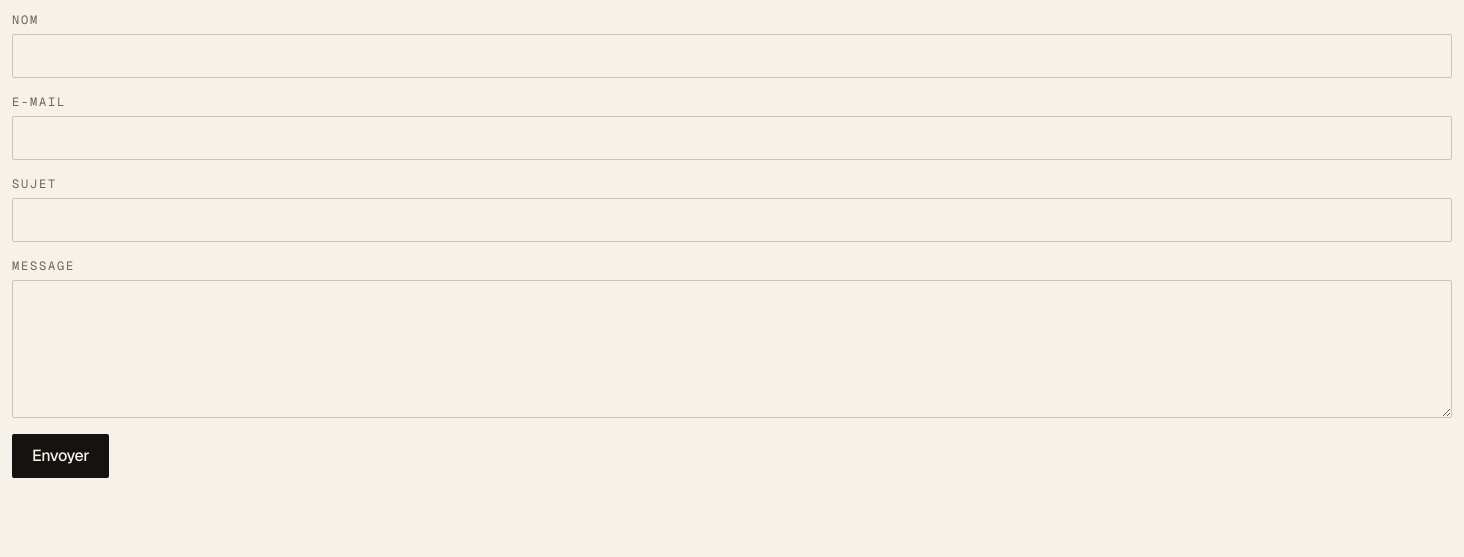
Test: ContactForm › affiche un message d'information sur soumission valide
In the field labelled "Nom": (732, 56) [12,34,1452,78], type "Alice"
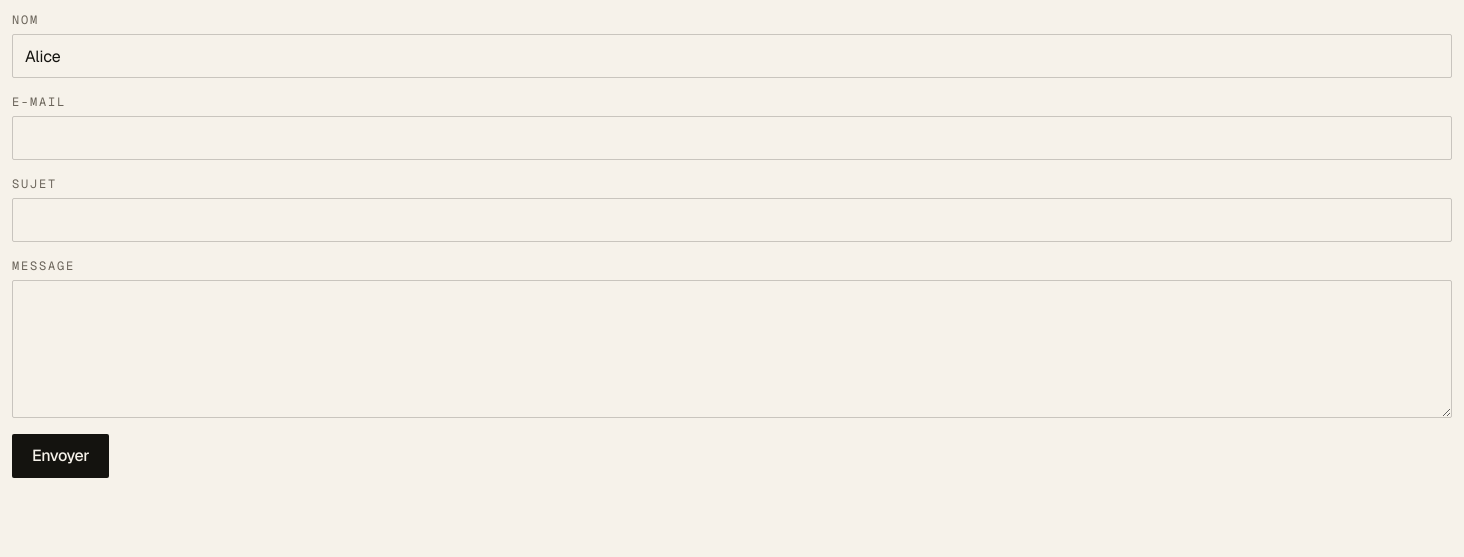
In the field labelled "E-mail": (732, 138) [12,116,1452,160], type "alice@bamfa.org"
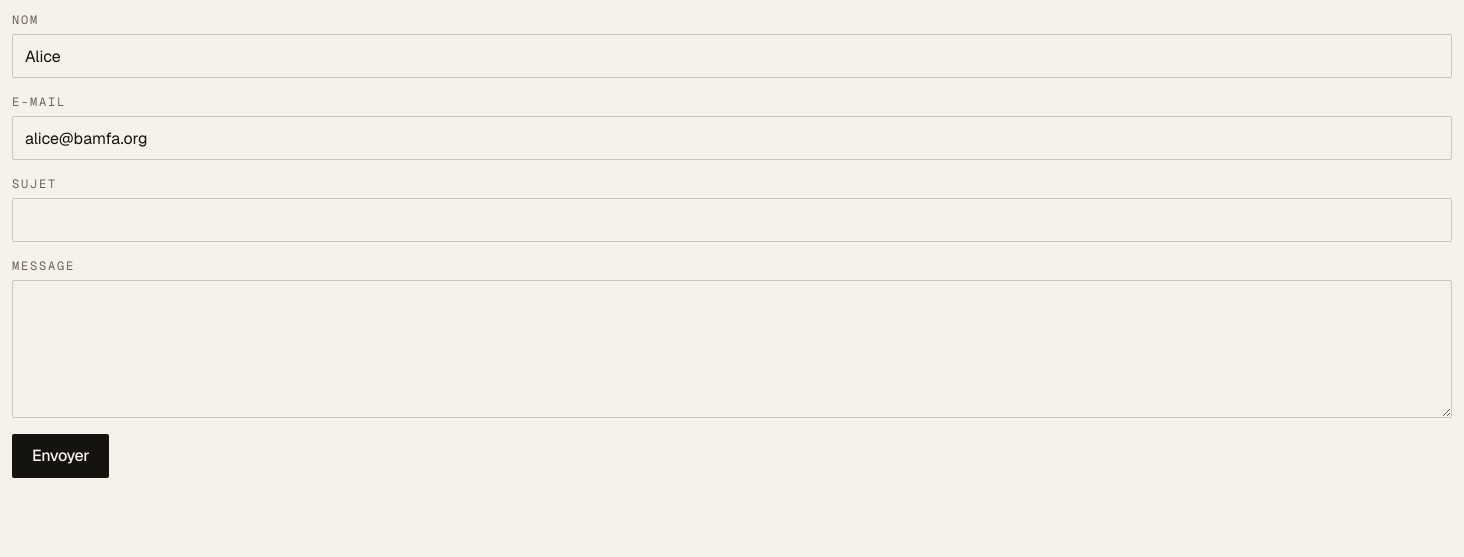
In the text box labelled "Message": (732, 349) [12,280,1452,418], type "Bonjour"
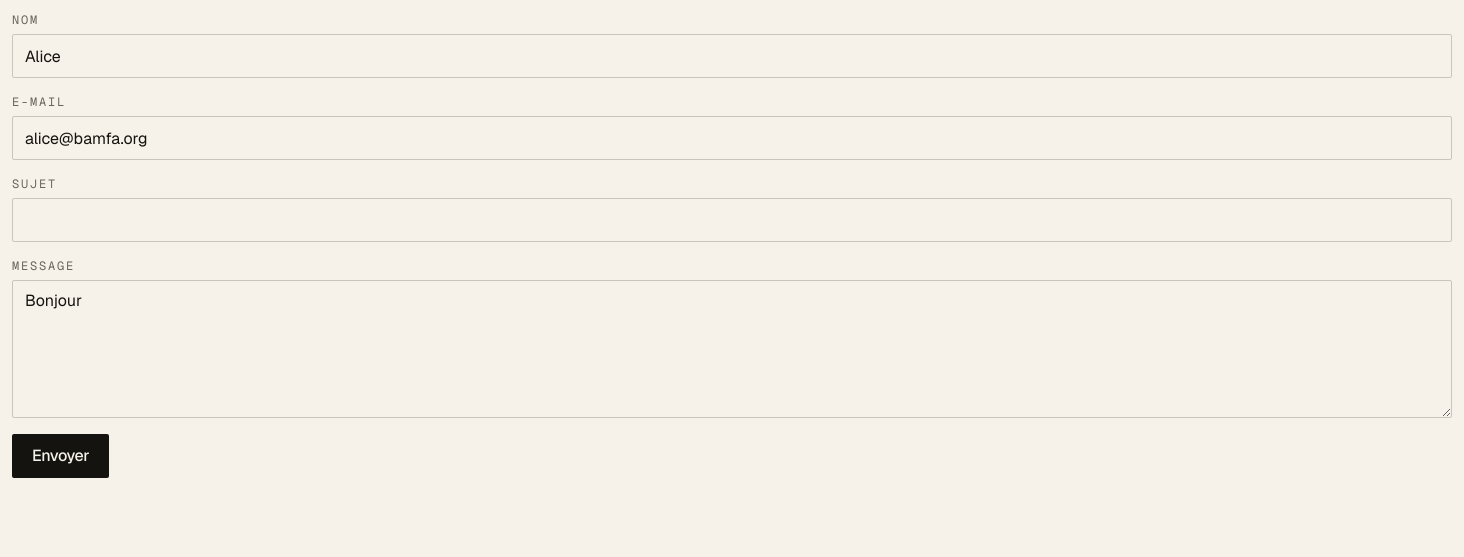
Click the button "Envoyer": (61, 456) [12,434,109,478]
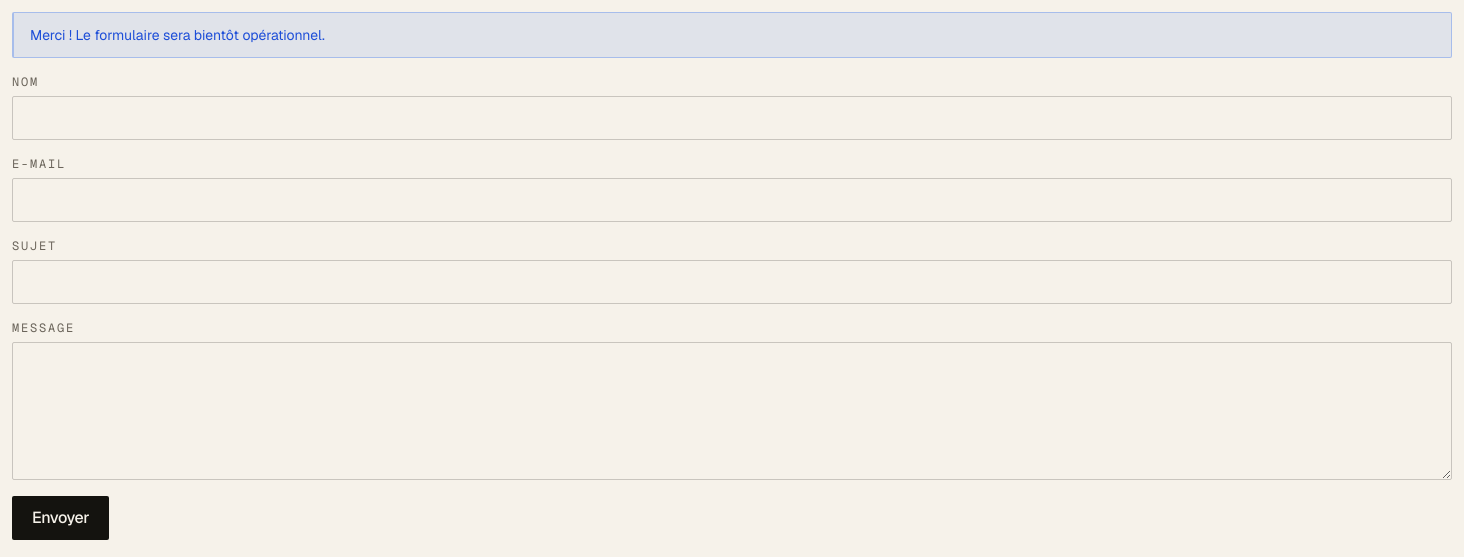
Expected: the message reads "Merci ! Le formulaire sera bientôt opérationnel.", [30,26,325,44]
